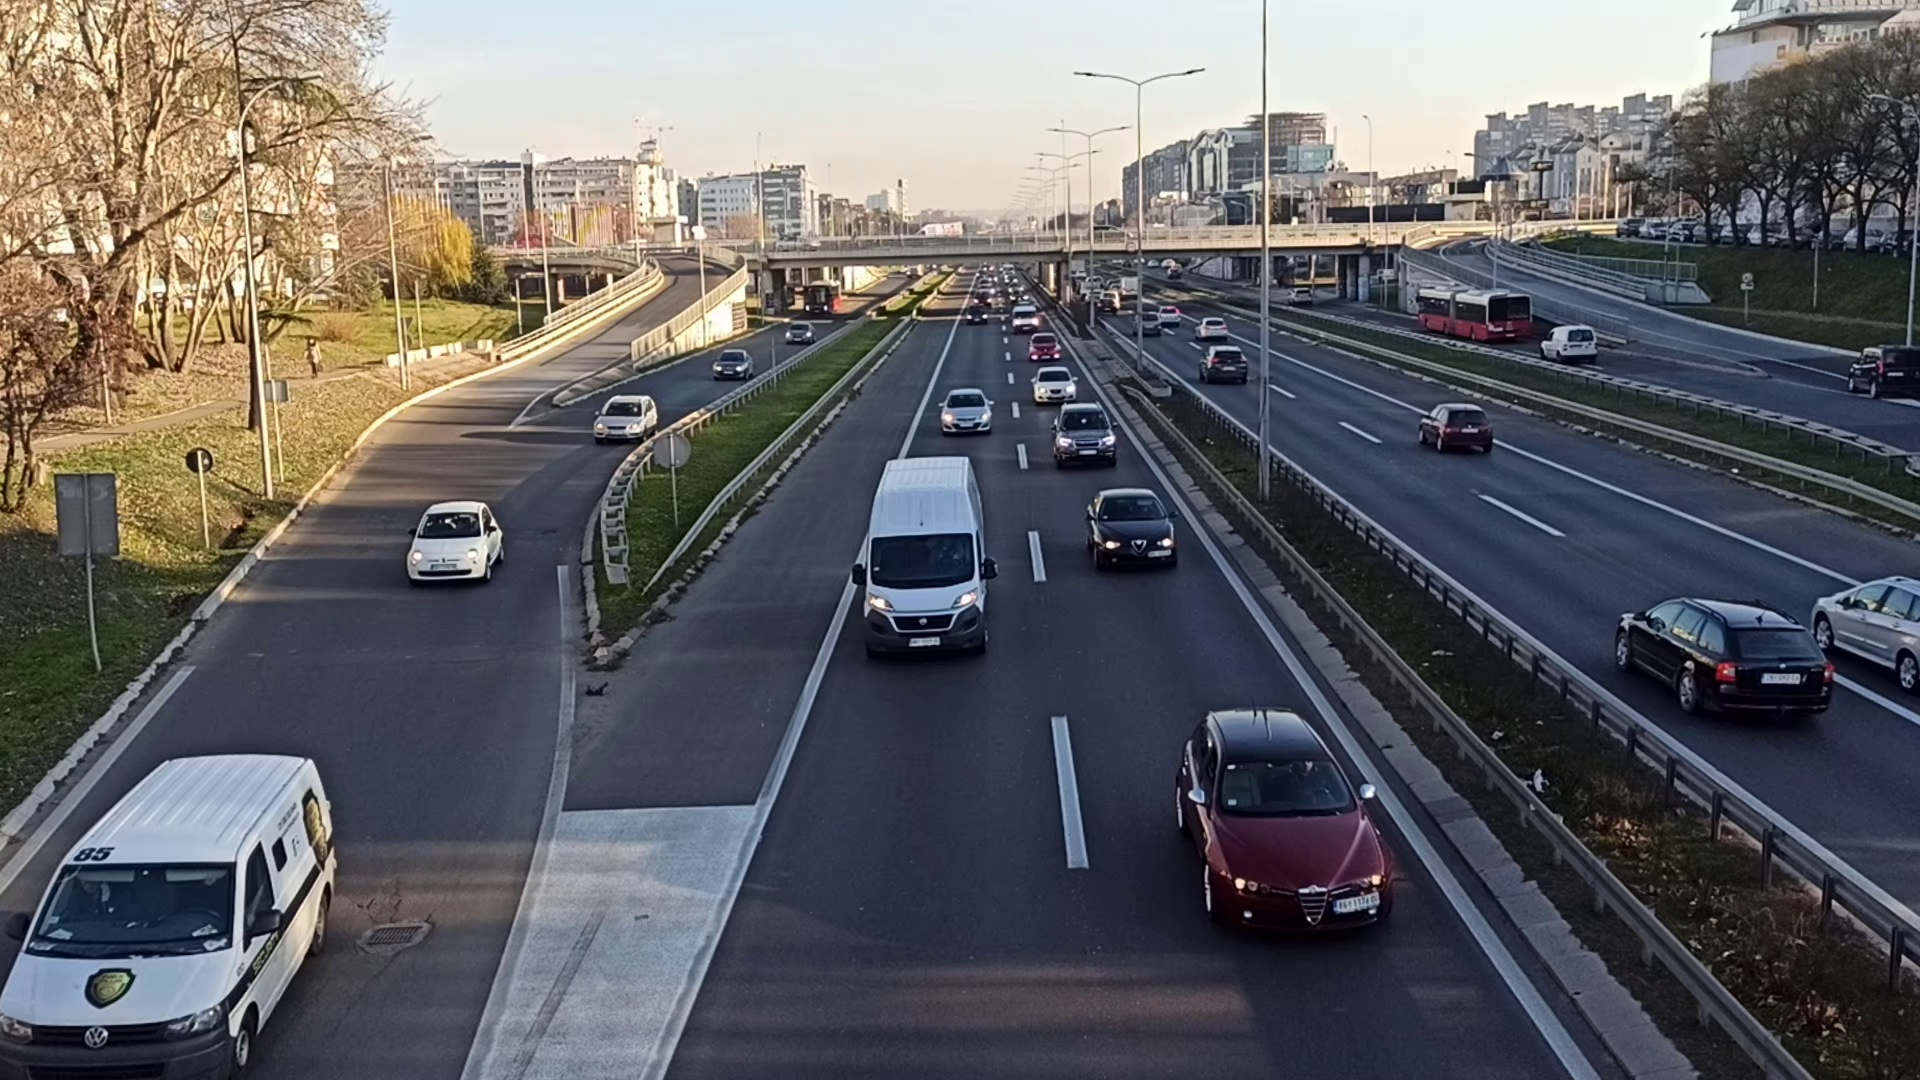bus: (1415, 284, 1534, 342), (800, 281, 845, 313)
car: (1156, 696, 1404, 942), (1615, 599, 1840, 729), (1812, 576, 1920, 696), (1076, 477, 1188, 579), (394, 498, 513, 589), (1414, 401, 1501, 459), (1044, 404, 1120, 464), (589, 390, 658, 440), (940, 386, 1000, 440), (1196, 344, 1247, 386), (1029, 367, 1076, 409), (711, 343, 757, 381), (1025, 331, 1060, 364)
van: (1, 745, 347, 1073), (855, 454, 998, 665)
